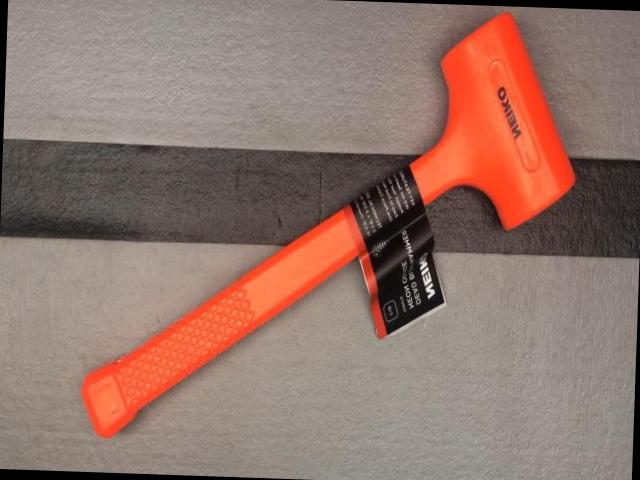hammer: (78, 0, 581, 454)
